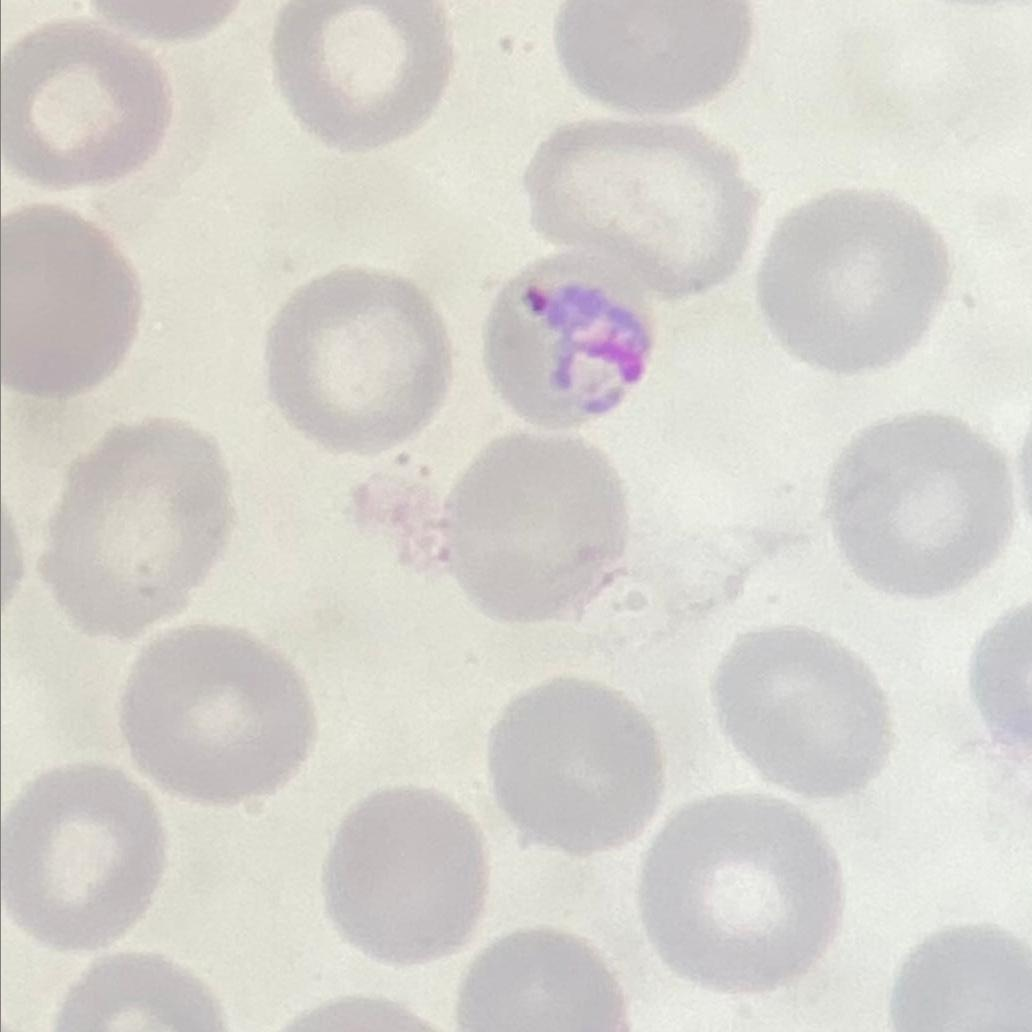Infected: (483, 253, 660, 428)
Uninfected: (41, 418, 232, 635), (637, 794, 842, 990), (523, 122, 752, 291), (441, 432, 632, 624), (760, 189, 951, 369), (827, 411, 1009, 597), (120, 625, 309, 804), (272, 276, 457, 449), (484, 678, 665, 854), (715, 631, 900, 801), (2, 765, 165, 945), (320, 788, 488, 962), (1, 207, 146, 399), (2, 22, 171, 185), (273, 0, 451, 148), (555, 0, 751, 113), (457, 930, 630, 1029)
